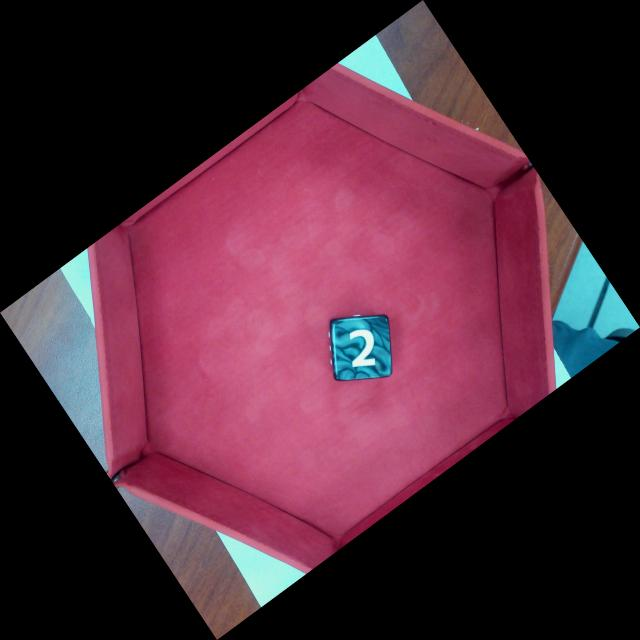dice: (331, 313, 395, 383)
